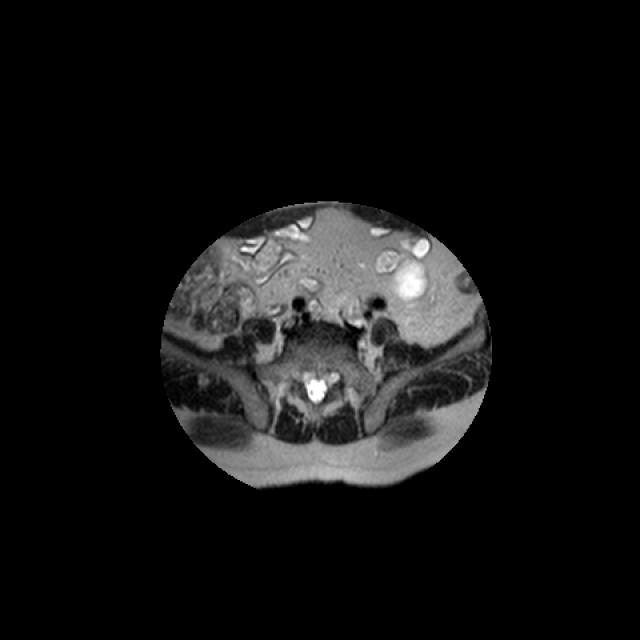sol: (391, 255, 428, 300)
